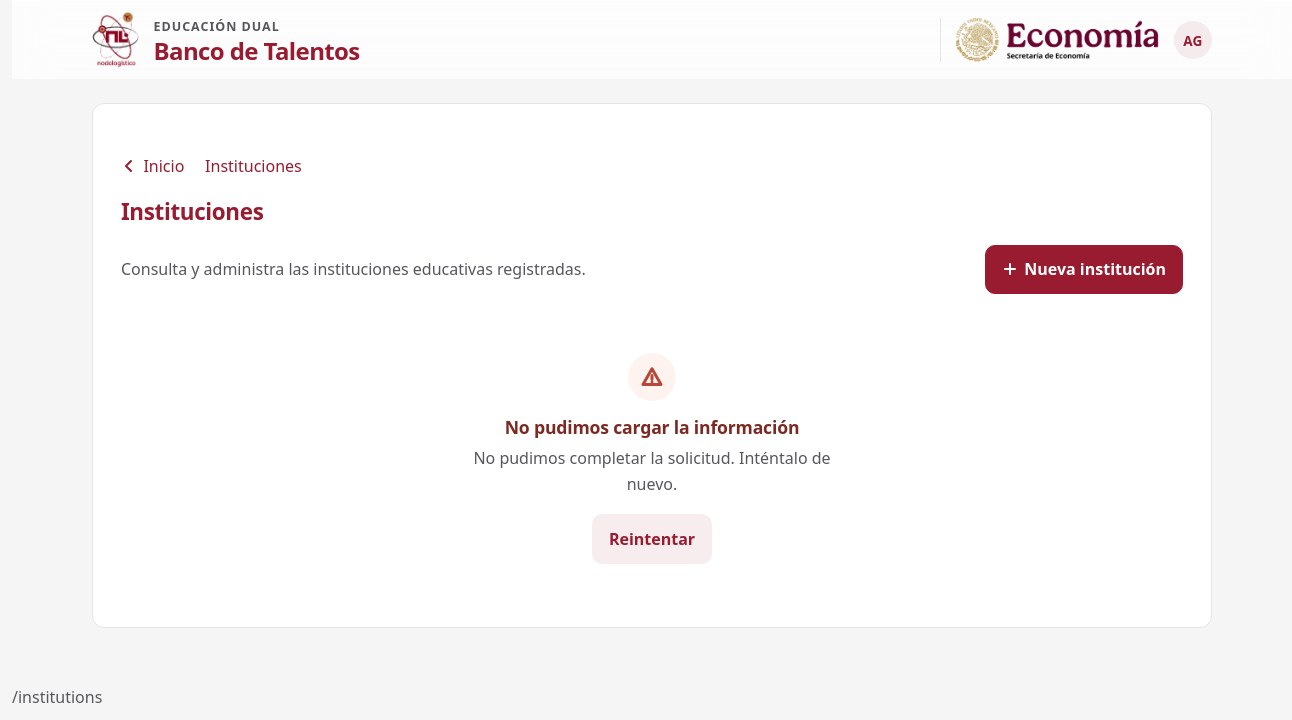
Scenario: consulta de instituciones › permite reintentar la consulta ante un error de servidor
The image size is (1292, 720).
Expected: the message shows "No pudimos completar", [473,447,831,495]
Click the button "Reintentar" at (652, 539), box [592,514,712,564]
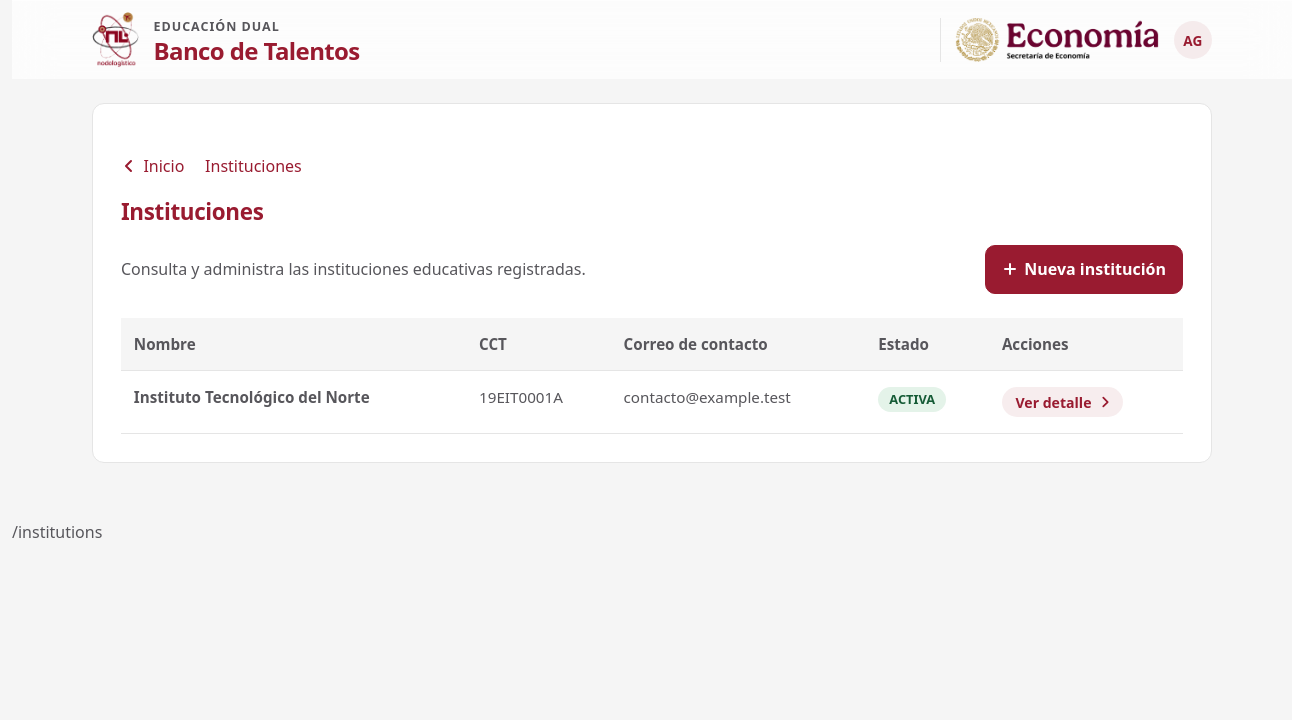
Now the column heading "Instituto Tecnológico del Norte" is shown, box [121,371,466,434]
Now the message is gone
